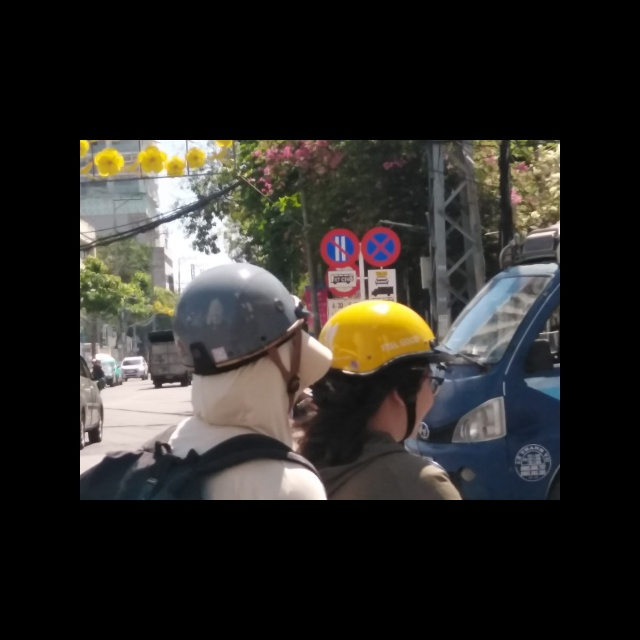Cấm dừng xe và đỗ xe: (361, 227, 401, 268)
Cấm đỗ xe ngày chẵn: (318, 228, 360, 268)
